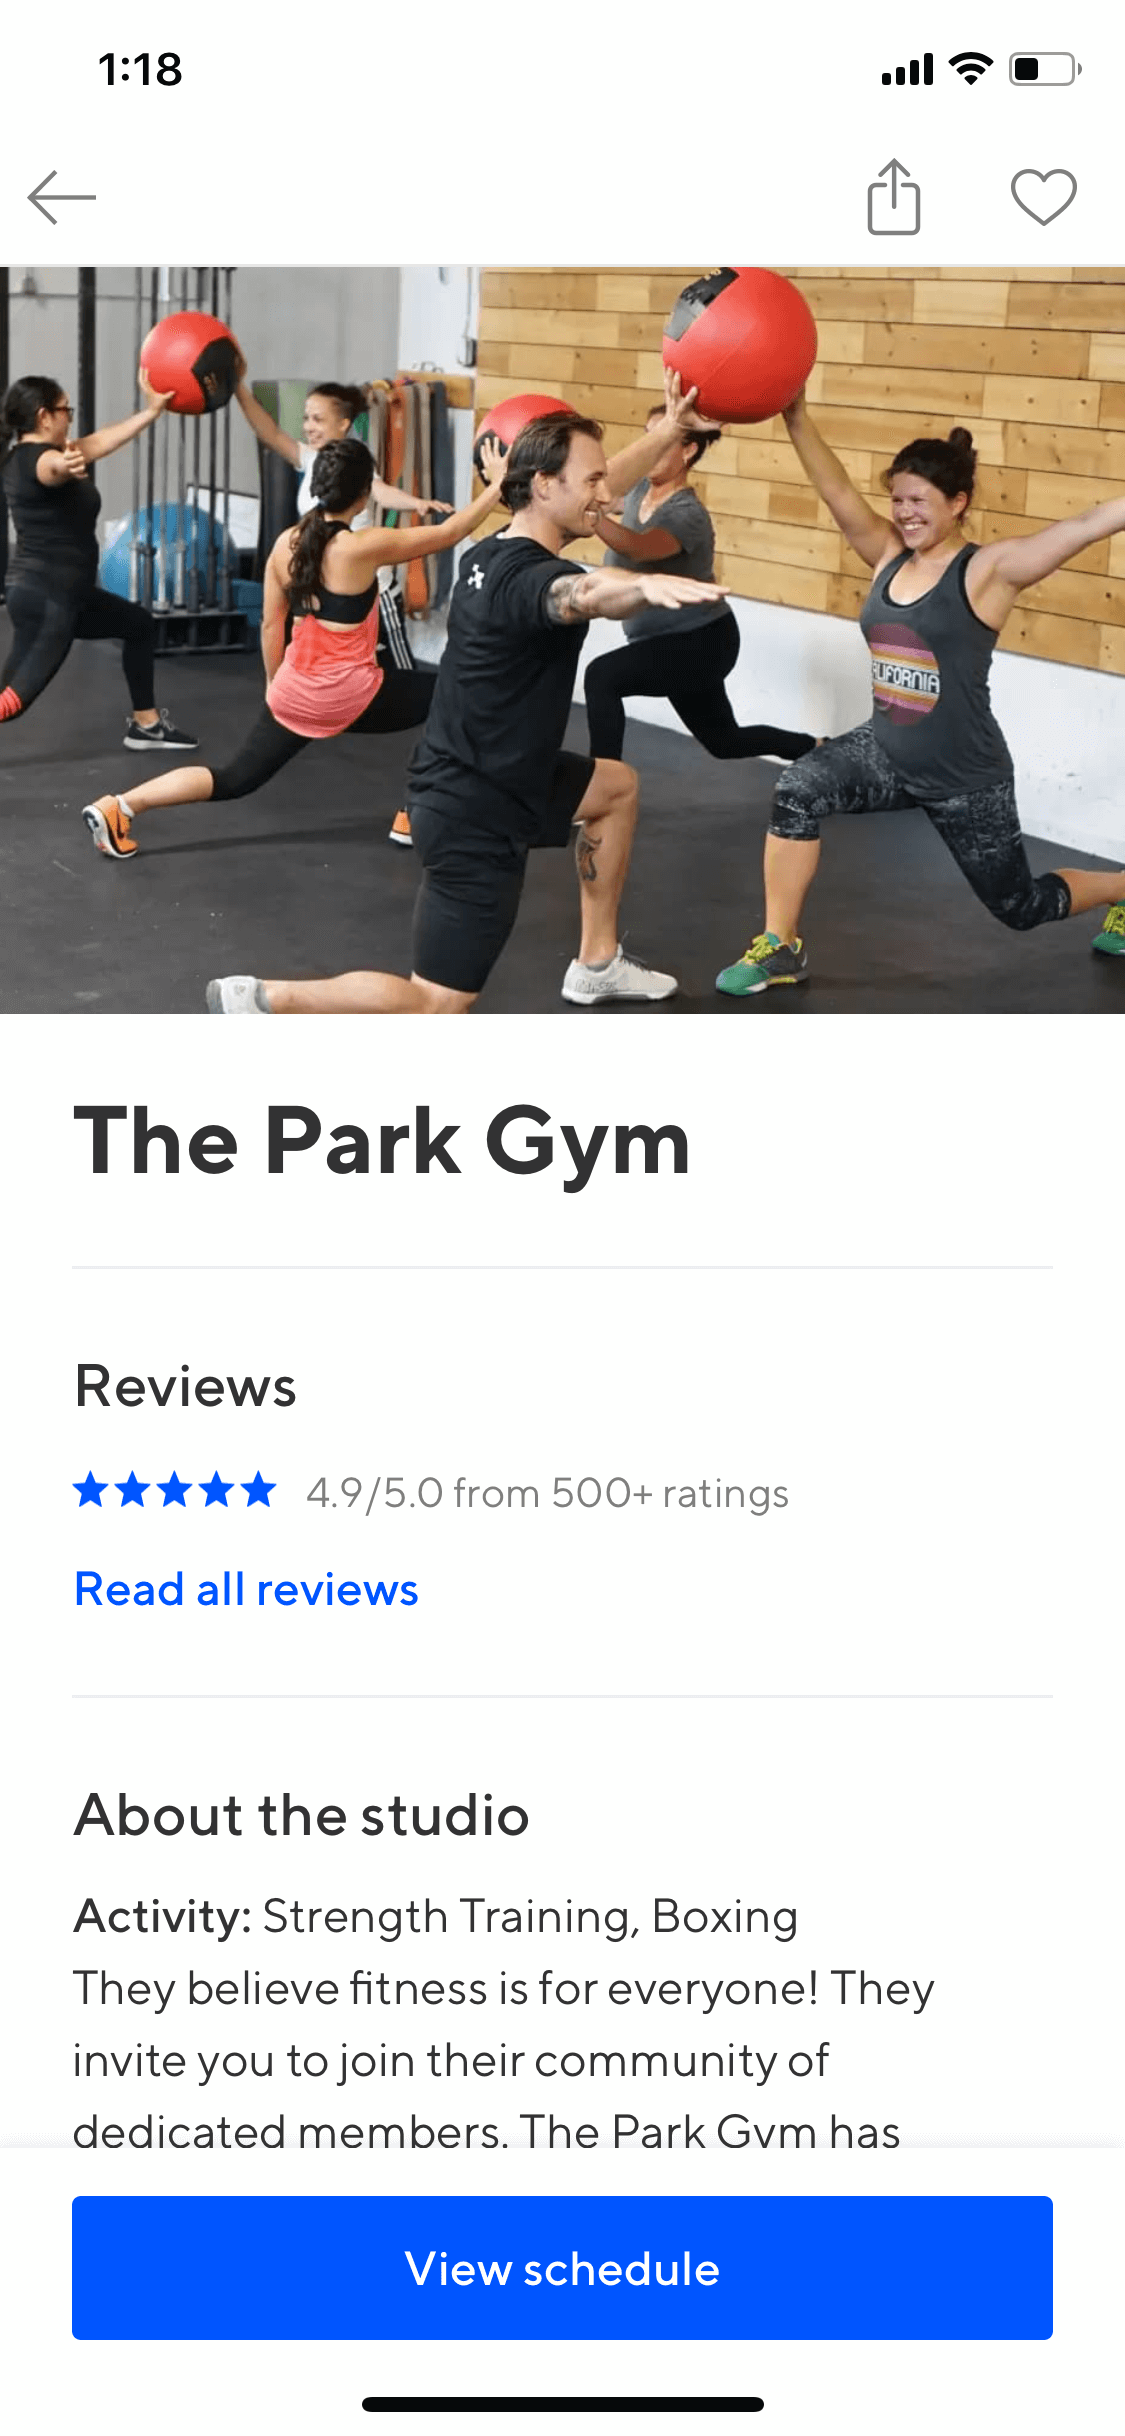Buttons: (70, 2170, 1061, 2361), (65, 1540, 455, 1644), (836, 149, 960, 256), (3, 146, 120, 253), (990, 144, 1102, 252)
Rating: (57, 1453, 446, 1529)
